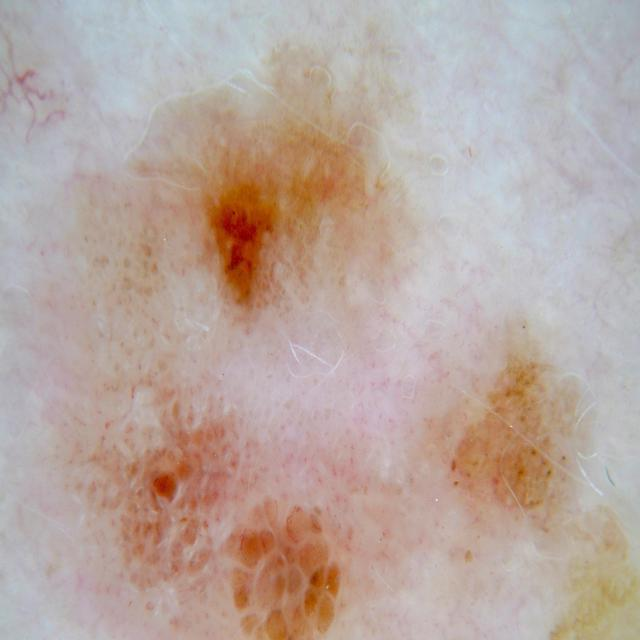Melanoma: (100, 387, 355, 640), (153, 94, 401, 298), (431, 321, 640, 542)
